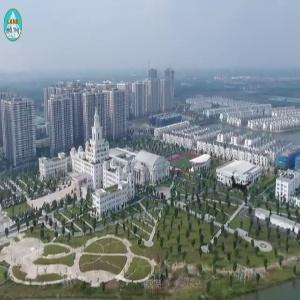drone: (212, 159, 267, 214)
